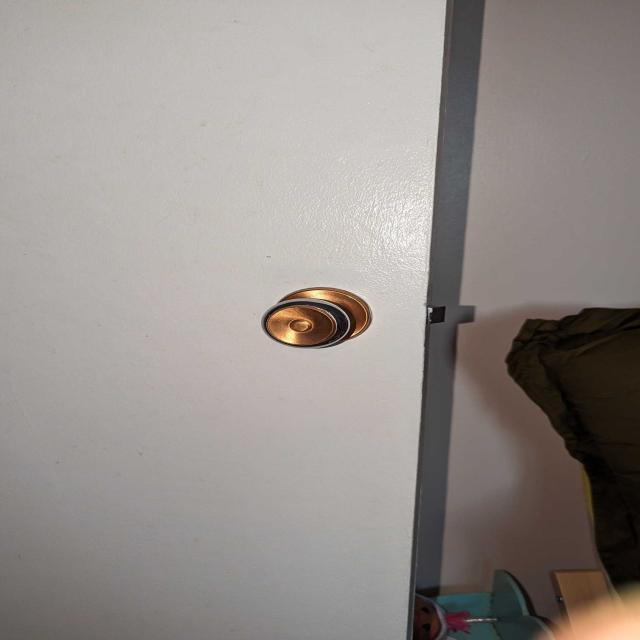door-knob: (262, 288, 371, 348)
